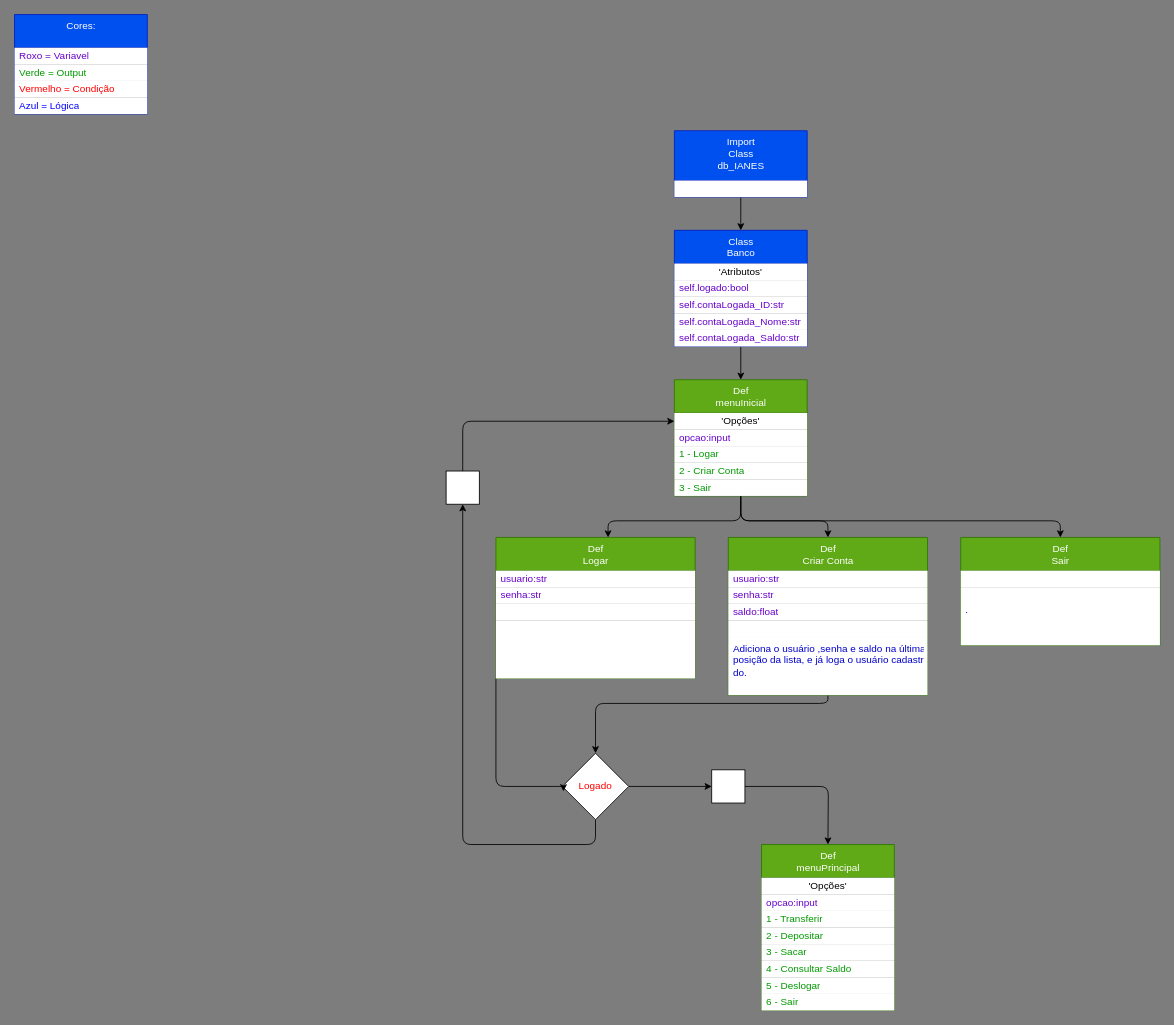
Some shapes in this 1174 by 1025 pixel diagram are drawn without their labels. The centre of each missing label's shape, as x and y in pixels:
"False" belongs at (x=462, y=487).
"Obrigado por utilizar!!!" belongs at (x=1060, y=578).
"True" belongs at (x=728, y=786).
"Verifica se contém o usuário na lista e se a senha pertence aquele usuário." belongs at (x=595, y=649).
